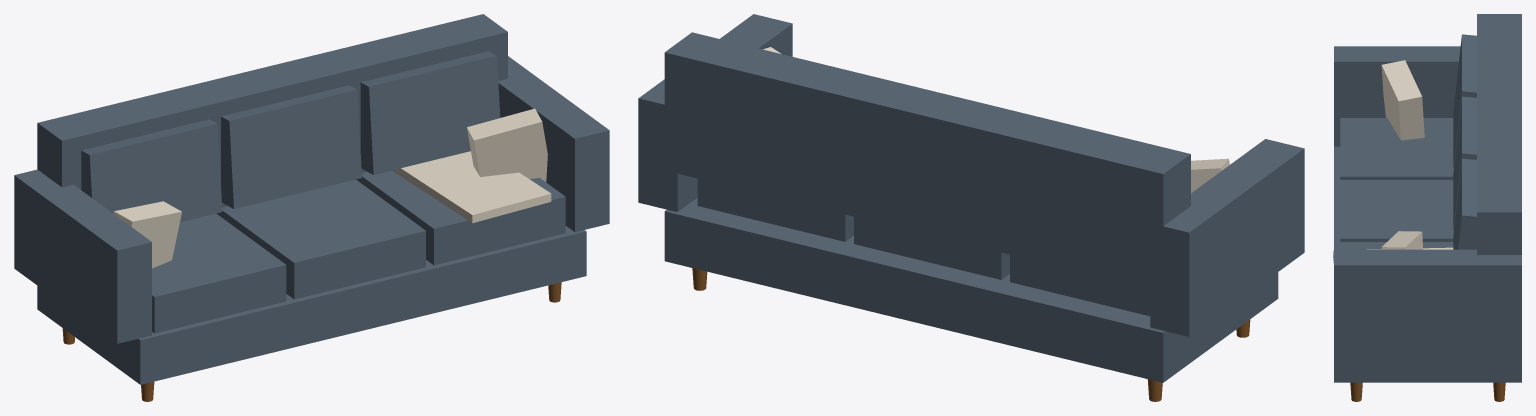
File: sofa.glb
3 renders of one model, left to right at view 1: azimuth 30°, elevation 25°; view 2: azimuth 150°, elevation 25°; view 3: azimuth 270°, elevation 25°, orthographic. The views are drawn at different scales.
Visible parts, largest first — view 1: frame, backrest, armrest_left, seat_cushion_2, back_pillow_2, back_pillow_3, seat_cushion_1, back_pillow_1, armrest_right, seat_cushion_3, accessory_throw, accessory_cushion_2 (+1 smaller); view 2: backrest, frame, armrest_left, armrest_right, seat_cushion_3, seat_cushion_2, seat_cushion_1, accessory_cushion_1; view 3: armrest_right, backrest, armrest_left, frame, seat_cushion_2, seat_cushion_1, accessory_cushion_1, back_pillow_3, back_pillow_1, back_pillow_2, accessory_cushion_2, seat_cushion_3 (+2 smaller).
Boxes of the visible parts, box(x1,y1,x2,y2) form: frame: box(37, 226, 586, 384); backrest: box(37, 14, 507, 207); armrest_left: box(14, 169, 151, 343); seat_cushion_2: box(216, 179, 425, 299); back_pillow_2: box(221, 85, 361, 208); back_pillow_3: box(360, 51, 500, 174); seat_cushion_1: box(152, 213, 286, 333); back_pillow_1: box(81, 119, 222, 222); armrest_right: box(498, 56, 609, 231); seat_cushion_3: box(356, 171, 565, 265); accessory_throw: box(392, 151, 551, 223); accessory_cushion_2: box(467, 108, 547, 181); backrest: box(664, 32, 1190, 288); frame: box(664, 198, 1278, 382); armrest_left: box(1150, 139, 1304, 336); armrest_right: box(638, 14, 792, 211); seat_cushion_3: box(697, 178, 853, 241); seat_cushion_2: box(854, 216, 1009, 279); seat_cushion_1: box(1010, 255, 1150, 316); accessory_cushion_1: box(1191, 158, 1229, 192); armrest_right: box(1334, 249, 1521, 350); backrest: box(1477, 14, 1521, 254); armrest_left: box(1334, 46, 1460, 146); frame: box(1334, 146, 1521, 382); seat_cushion_2: box(1340, 180, 1453, 241); seat_cushion_1: box(1340, 118, 1453, 179); accessory_cushion_1: box(1381, 60, 1424, 140); back_pillow_3: box(1453, 158, 1476, 249); back_pillow_1: box(1453, 34, 1476, 168); back_pillow_2: box(1453, 96, 1476, 230); accessory_cushion_2: box(1381, 231, 1422, 249); seat_cushion_3: box(1340, 242, 1453, 249).
Size of the model in its own units: 2.54 by 1.06 by 0.925.
